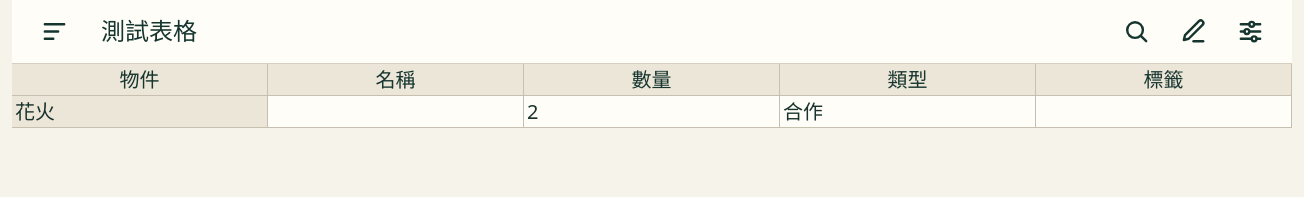
Test: WorkspacePage.filters › moves search into the title slot and uses the second row for column filters
Step 1. Click the button named "搜尋" → (1136, 32), box [1112, 8, 1160, 56]
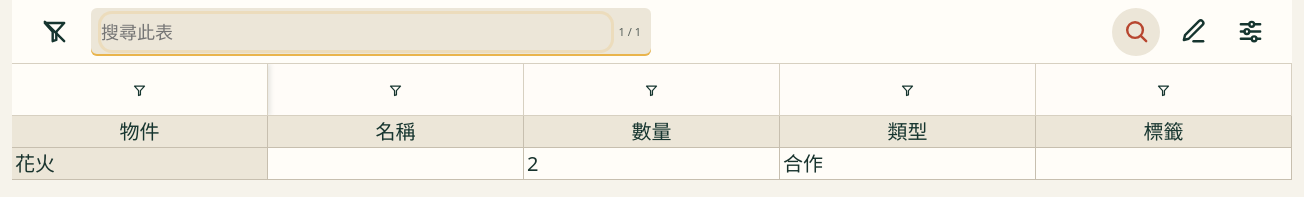
Now the search field labelled "搜尋此表" is shown
Now the button "重新命名表格" is gone
Now the button named "清除搜尋與篩選" is shown, box [30, 8, 78, 56]
Step 2. Type "合作" into the search field labelled "搜尋此表" → (356, 32), box [101, 14, 611, 50]
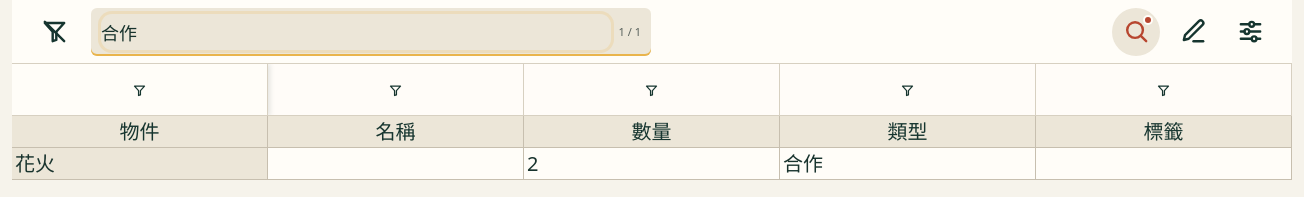
Step 3. Click the button named "清除搜尋與篩選" → (54, 32), box [30, 8, 78, 56]
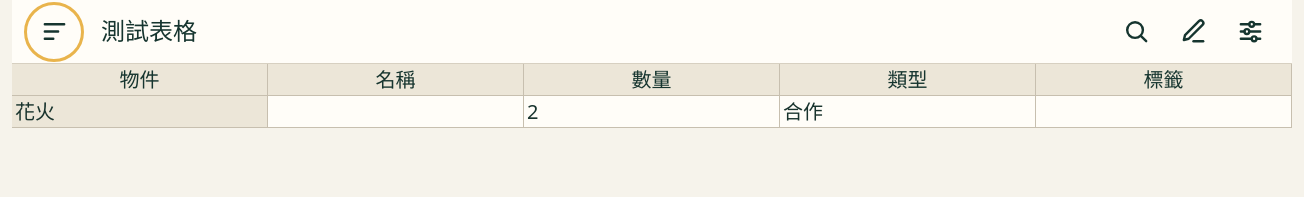
Now the search field labelled "搜尋此表" is gone
Now the button named "開啟目錄" is shown, box [30, 8, 78, 56]
